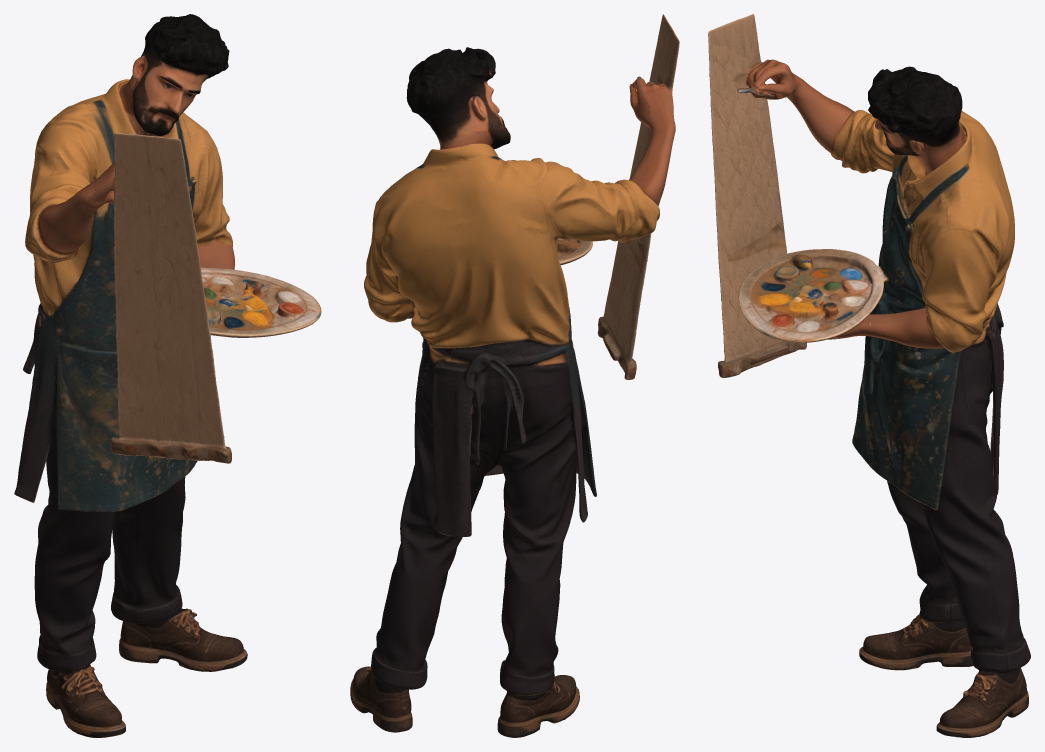
Rendered from painter_pose1.glb.
3 renders of one model, left to right at view 1: azimuth 30°, elevation 25°; view 2: azimuth 150°, elevation 25°; view 3: azimuth 270°, elevation 25°, orthographic. The views are drawn at different scales.
Bounding box in the file's own units: 0.7851 × 1.9 × 0.873.
Materials: 1 (1 with a texture image).
